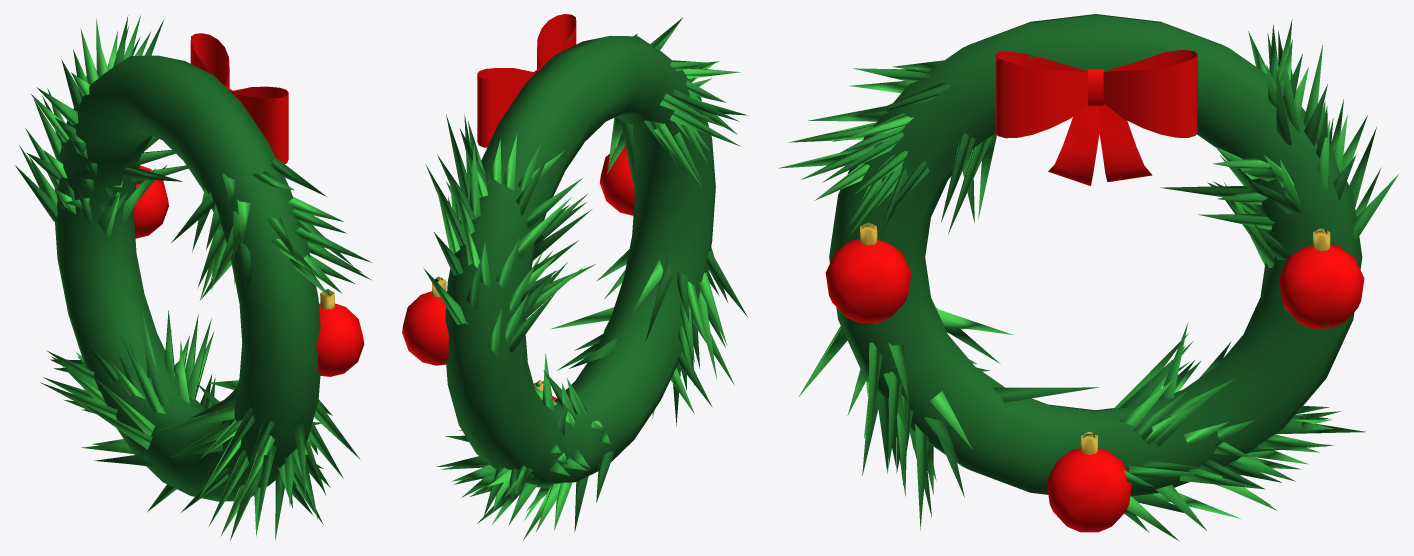
Rendered from DonaEsfera.fbx.
3 views of the same model, side by side, from view 1: azimuth 30°, elevation 25°; view 2: azimuth 150°, elevation 25°; view 3: azimuth 270°, elevation 25° (orthographic). The views are drawn at different scales.
Visible parts, largest first — view 1: Moño; view 2: Moño; view 3: Moño.
Boxes of the visible parts, x1,y1,x2,y2 form: Moño: [15, 15, 372, 540]; Moño: [402, 14, 748, 540]; Moño: [778, 14, 1398, 541].
Size of the model in its own units: 1.05 by 2.67 by 2.85.
1 material, 1 textured.
